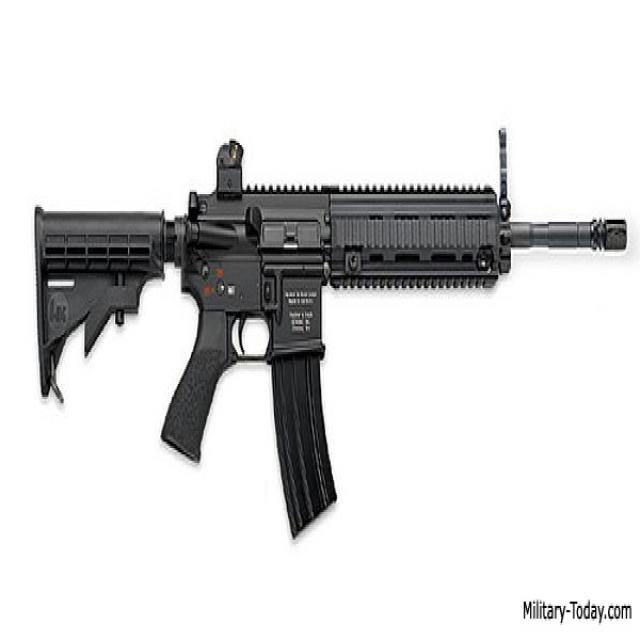Rifle: (33, 128, 630, 540)
